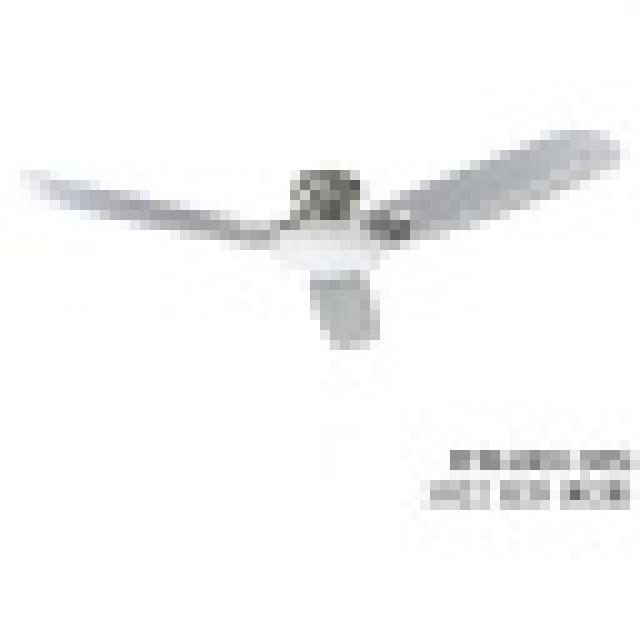fan_off: (39, 126, 619, 349)
